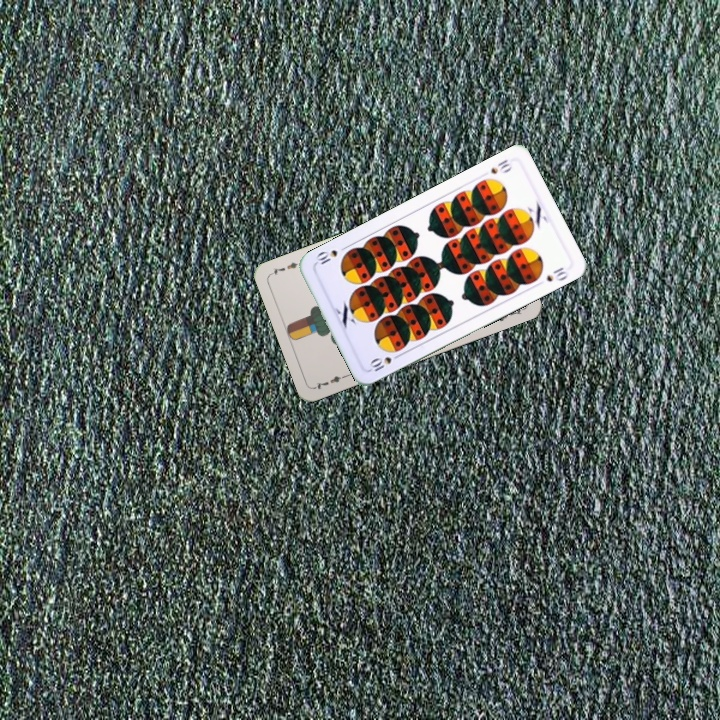E7: (311, 370, 350, 392)
S10: (365, 350, 404, 374), (486, 155, 514, 177)
